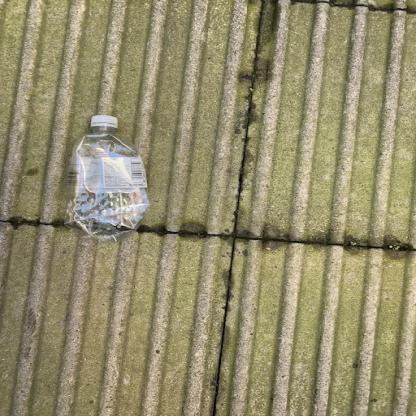trash: (69, 116, 154, 242)
